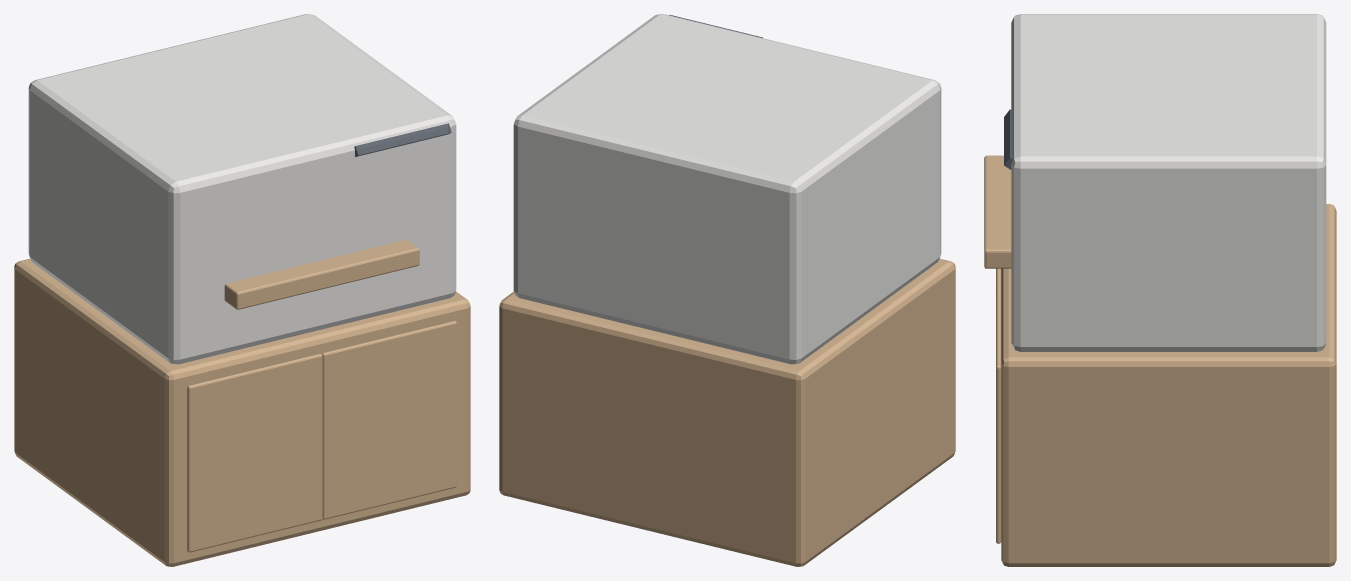
File: print___utility_office_asset_library_16.glb
3 renders of one model, left to right at view 1: azimuth 30°, elevation 25°; view 2: azimuth 150°, elevation 25°; view 3: azimuth 270°, elevation 25°, orthographic. The views are drawn at different scales.
Parts seen in each view (by area): view 1: Cube; view 2: Cube; view 3: Cube.
Part boxes in pixels (x1,y1,x2,y2): Cube: (14,14,470,566); Cube: (499,14,955,566); Cube: (984,14,1336,566).
Size of the model in its own units: 0.72 by 0.8526 by 0.672.
